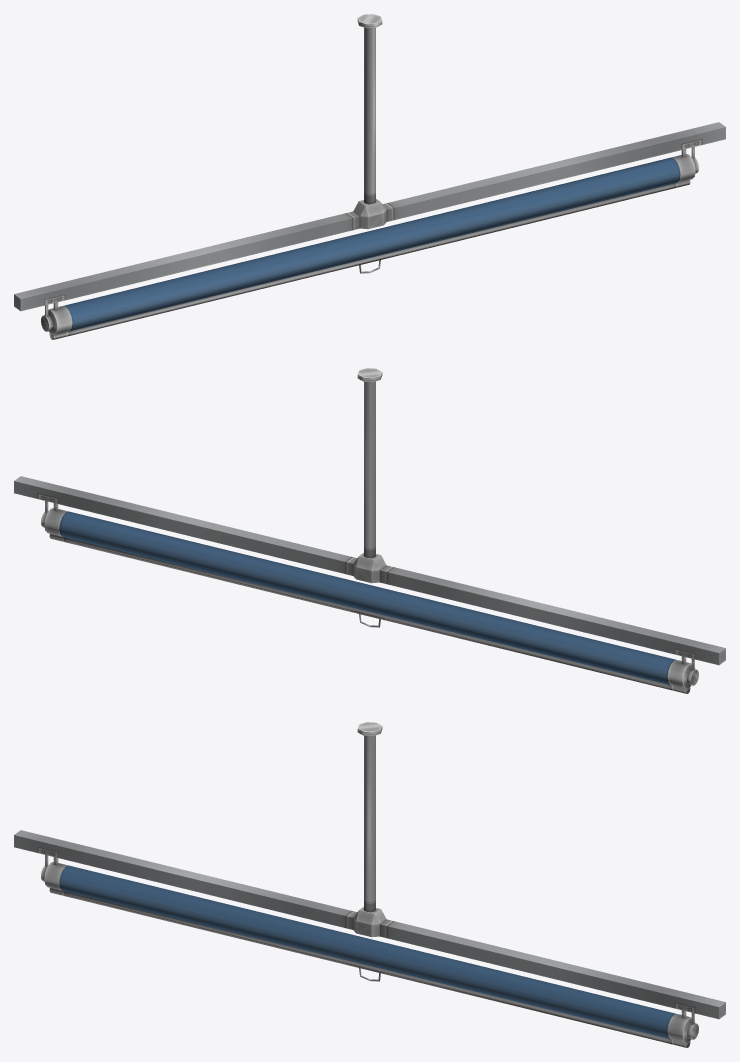
Rendered from Screen_01_01.fbx.
The picture shows the model from 3 angles, top to bottom: view 1: azimuth 30°, elevation 25°; view 2: azimuth 150°, elevation 25°; view 3: azimuth 330°, elevation 25°; orthographic projection.
Visible parts, largest first — view 1: screen_01_01; view 2: screen_01_01; view 3: screen_01_01.
Part boxes in pixels (box(x1,y1,x2,y2)): screen_01_01: box(14, 14, 725, 339); screen_01_01: box(14, 368, 725, 693); screen_01_01: box(14, 722, 725, 1047).
Bounding box in the file's own units: 180 × 61.99 × 5.8.
